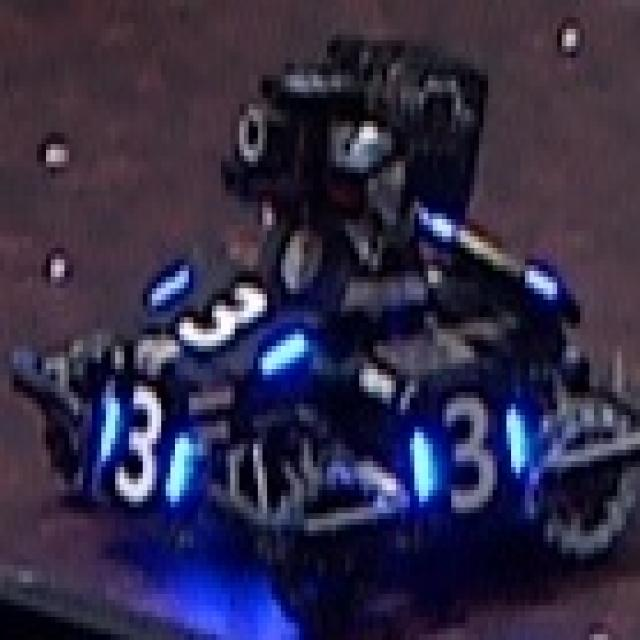B3: (396, 386, 529, 502), (88, 363, 194, 508), (157, 254, 290, 369)
